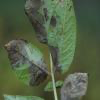Potato leaf late blight: (24, 0, 76, 78), (5, 38, 48, 87), (59, 72, 89, 99)
